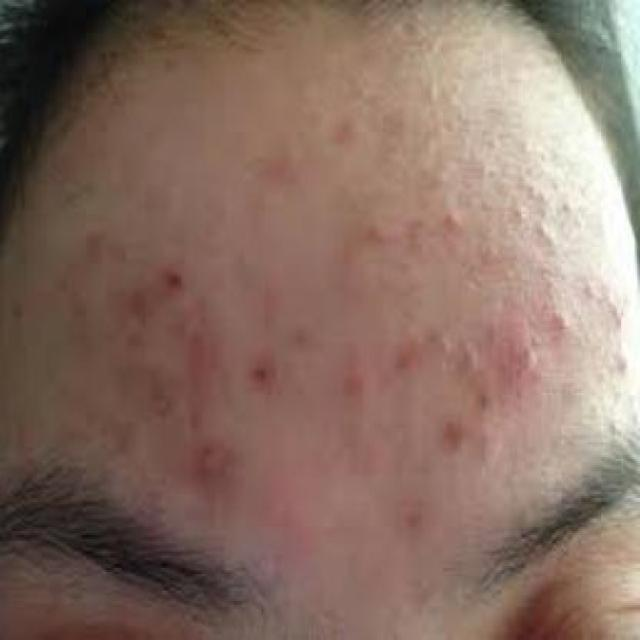blackheads: (234, 352, 283, 401), (152, 249, 198, 300)
papules: (440, 333, 489, 389), (509, 333, 546, 395), (548, 300, 584, 346)
pustules: (186, 436, 257, 504)
